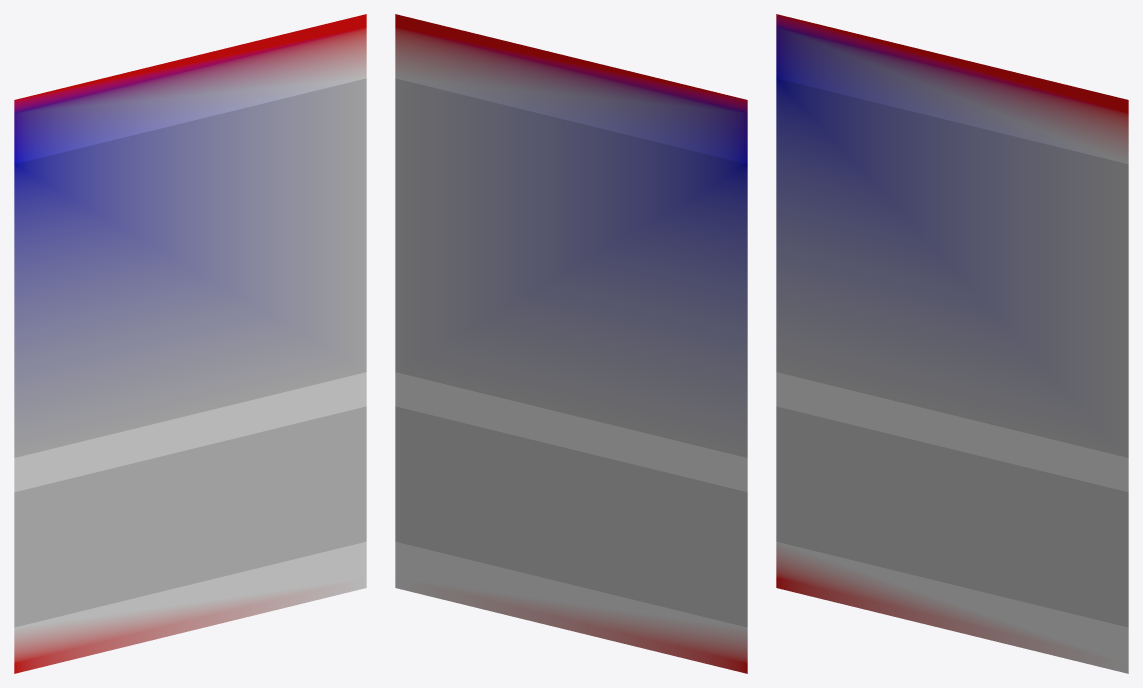
The picture shows the model from 3 angles, left to right: view 1: azimuth 30°, elevation 25°; view 2: azimuth 150°, elevation 25°; view 3: azimuth 330°, elevation 25°; orthographic projection.
Visible parts, largest first — view 1: SM_Bathroom_Wall_01_LOD0; view 2: SM_Bathroom_Wall_01_LOD0; view 3: SM_Bathroom_Wall_01_LOD0.
Part boxes in pixels (x1,y1,x2,y2): SM_Bathroom_Wall_01_LOD0: (14, 14, 366, 673); SM_Bathroom_Wall_01_LOD0: (395, 14, 747, 673); SM_Bathroom_Wall_01_LOD0: (776, 14, 1128, 673).
Bounding box in the file's own units: 225 × 2.68e-05 × 350.
